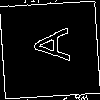A: (24, 25, 70, 63)
